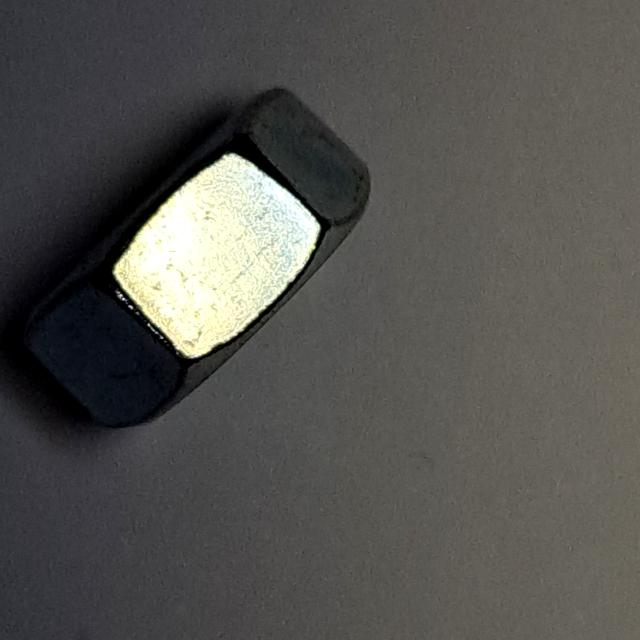Side_Excellent: (1, 70, 396, 442)
